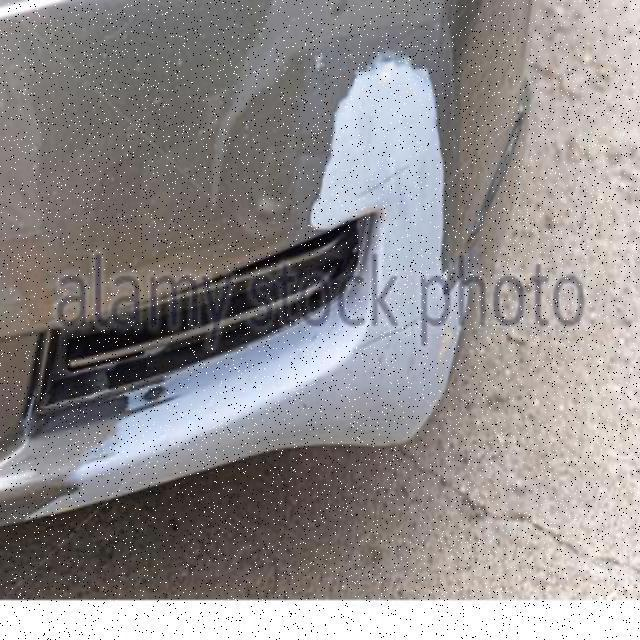front-bumper-dent: (0, 0, 562, 522)
